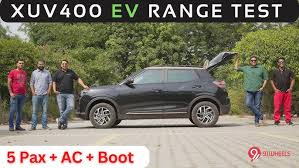XUV 400: (76, 48, 237, 129)
